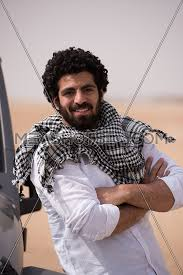middle_eastern_male: (56, 64, 106, 127)
